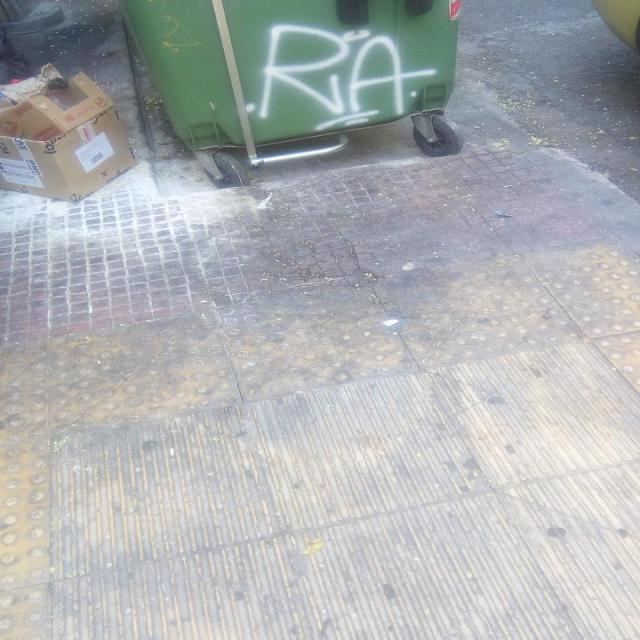nonspitting: (245, 21, 437, 130)
